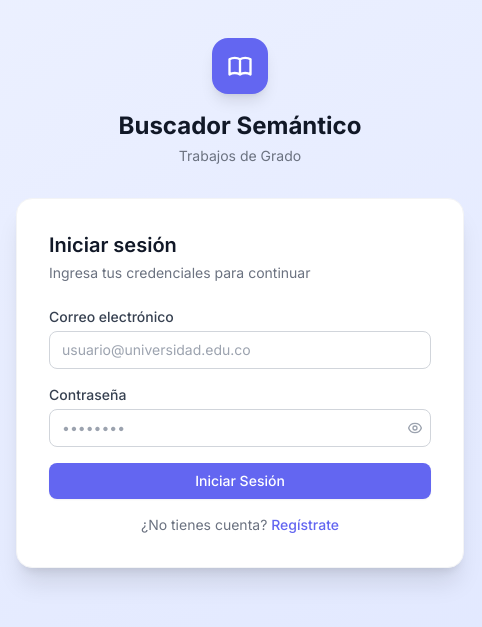
it: LoginPage › 2. muestra errores de validación si se envía el formulario vacío
The image size is (482, 627).
Click the button "Iniciar Sesión".
click(240, 481)  # box [49,463,431,499]
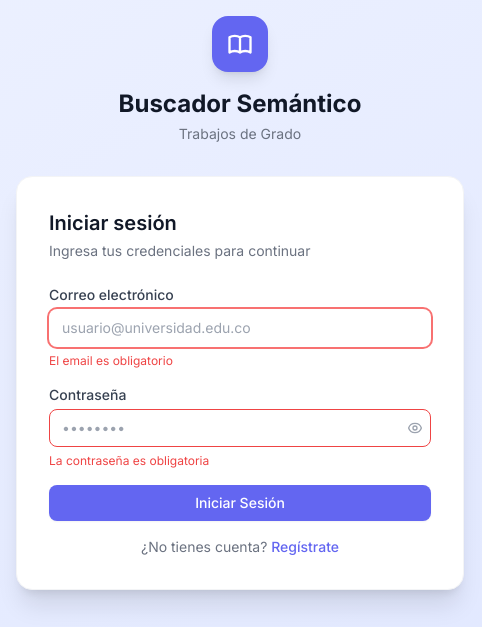
Expected: the text "El email es obligatorio" is shown, [49,353,173,368]
Expected: the text "La contraseña es obligatoria" is shown, [49,453,209,468]
